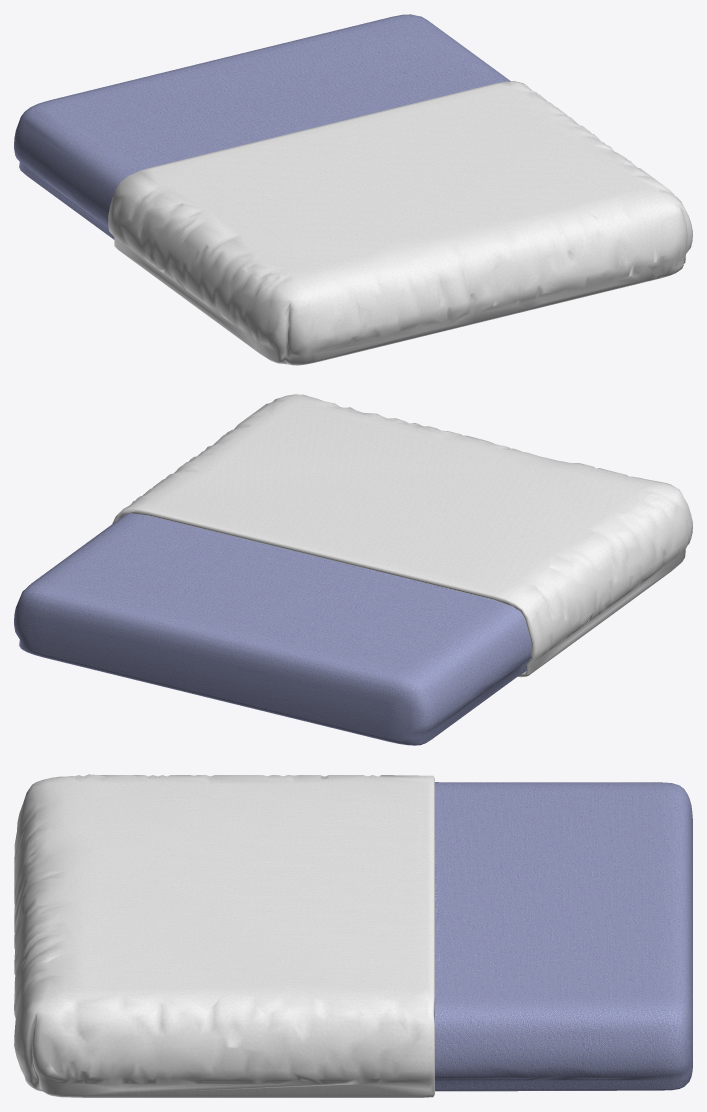
File: Bed.FBX
3 views of the same model, one above another, from view 1: azimuth 30°, elevation 25°; view 2: azimuth 150°, elevation 25°; view 3: azimuth 270°, elevation 25° (orthographic). The views are drawn at different scales.
Parts seen in each view (by area): view 1: bed; view 2: bed; view 3: bed.
Part boxes in pixels (bbox=[...]): bed: bbox=[14, 14, 692, 365]; bed: bbox=[14, 394, 692, 745]; bed: bbox=[14, 774, 692, 1097].
Bounding box in the file's own units: 159 × 27.54 × 179.
2 materials, 2 textured.
